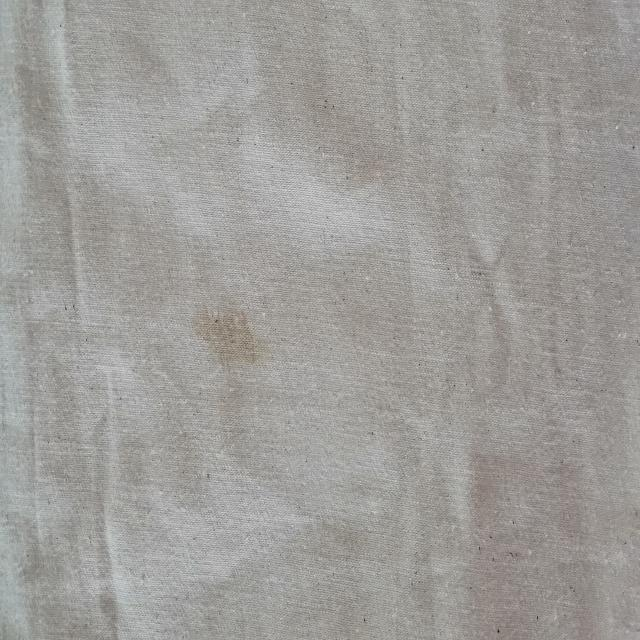taaaches: (186, 277, 262, 378)
